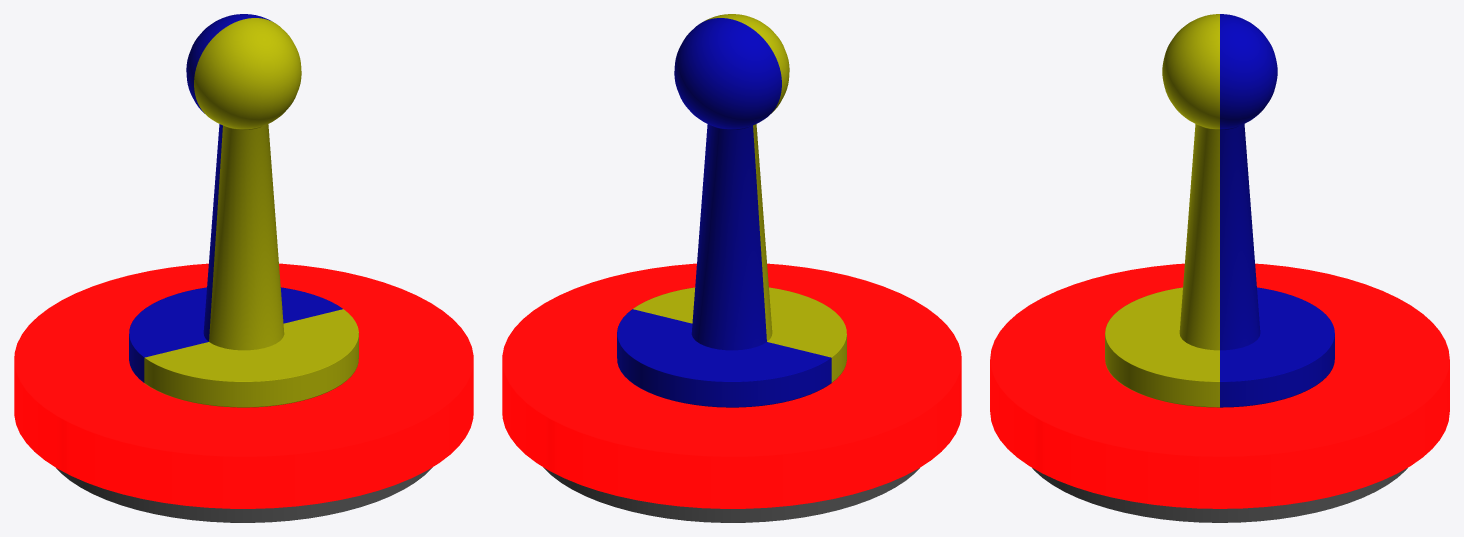
3 renders of one model, left to right at view 1: azimuth 30°, elevation 25°; view 2: azimuth 150°, elevation 25°; view 3: azimuth 270°, elevation 25°, orthographic.
Visible parts, largest first — view 1: EndEffector; view 2: EndEffector; view 3: EndEffector.
Boxes of the visible parts, bbox=[...] form: EndEffector: bbox=[14, 14, 473, 522]; EndEffector: bbox=[502, 14, 961, 522]; EndEffector: bbox=[990, 14, 1449, 522].
Bounding box in the file's own units: 0.0796 × 0.0796 × 0.08.
